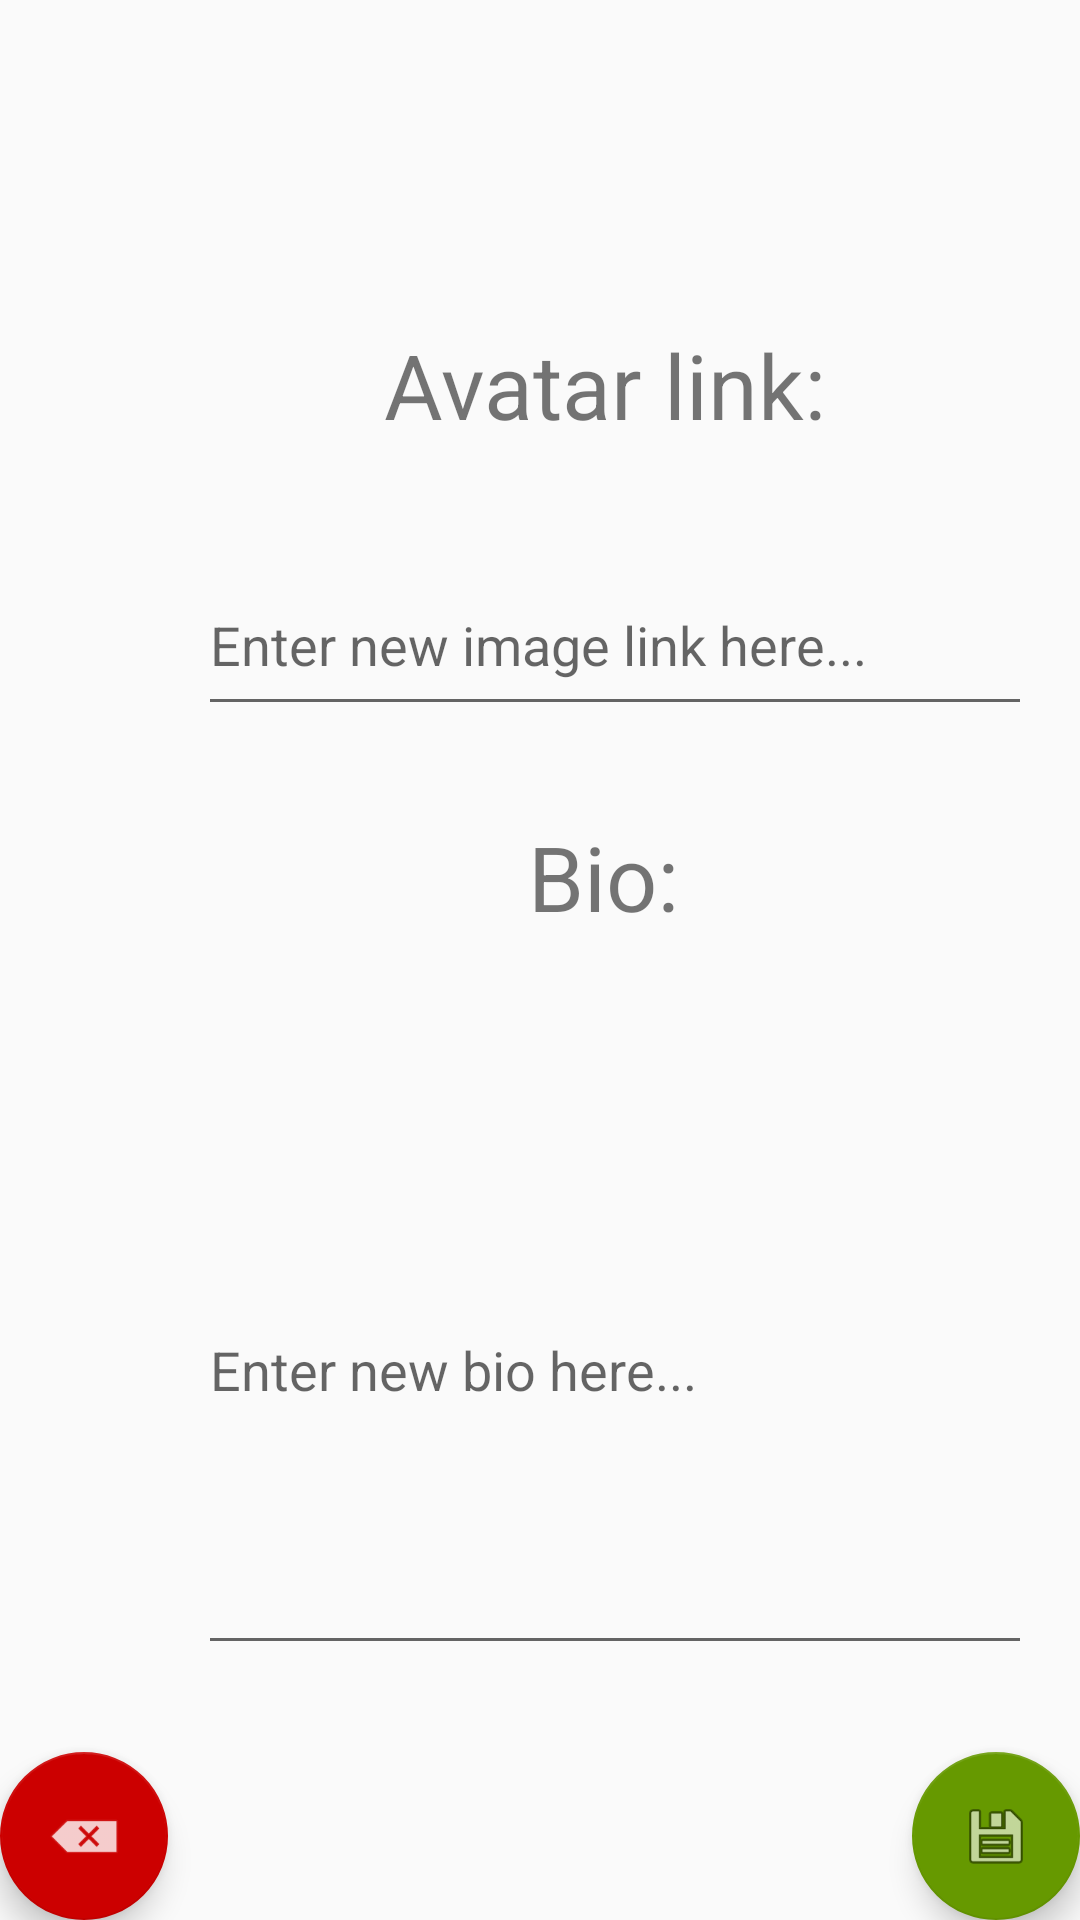

Where to tap for icons on this 1080w x 1920h app screen, as (x,y):
delete: (84,1836)
save: (996,1836)
